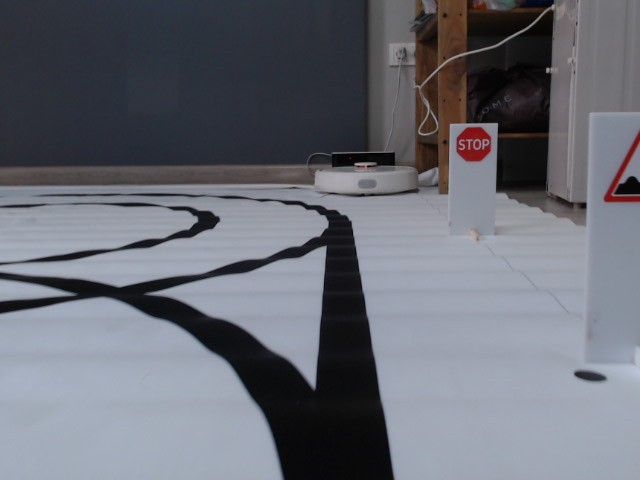Stop: (455, 126, 492, 163)
